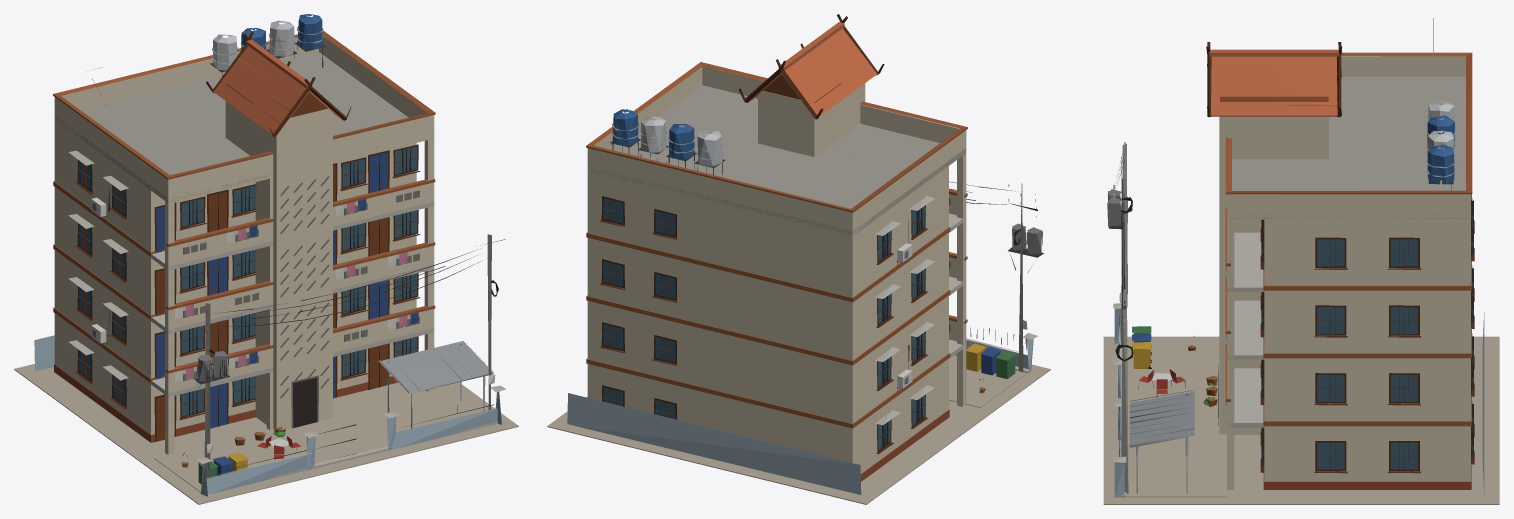
The model's file is home_4.glb.
3 renders of one model, left to right at view 1: azimuth 30°, elevation 25°; view 2: azimuth 150°, elevation 25°; view 3: azimuth 270°, elevation 25°, orthographic. The views are drawn at different scales.
Visible parts, largest first — view 1: body, windows; view 2: body, windows; view 3: body, windows.
Part boxes in pixels (left/top/right/bottom): body: left=14, top=14, right=518, bottom=504; windows: left=78, top=146, right=417, bottom=427; body: left=547, top=14, right=1050, bottom=504; windows: left=603, top=198, right=925, bottom=450; body: left=1103, top=18, right=1499, bottom=504; windows: left=1218, top=198, right=1472, bottom=469.
Size of the model in its own units: 15.9 by 16.93 by 16.87.
